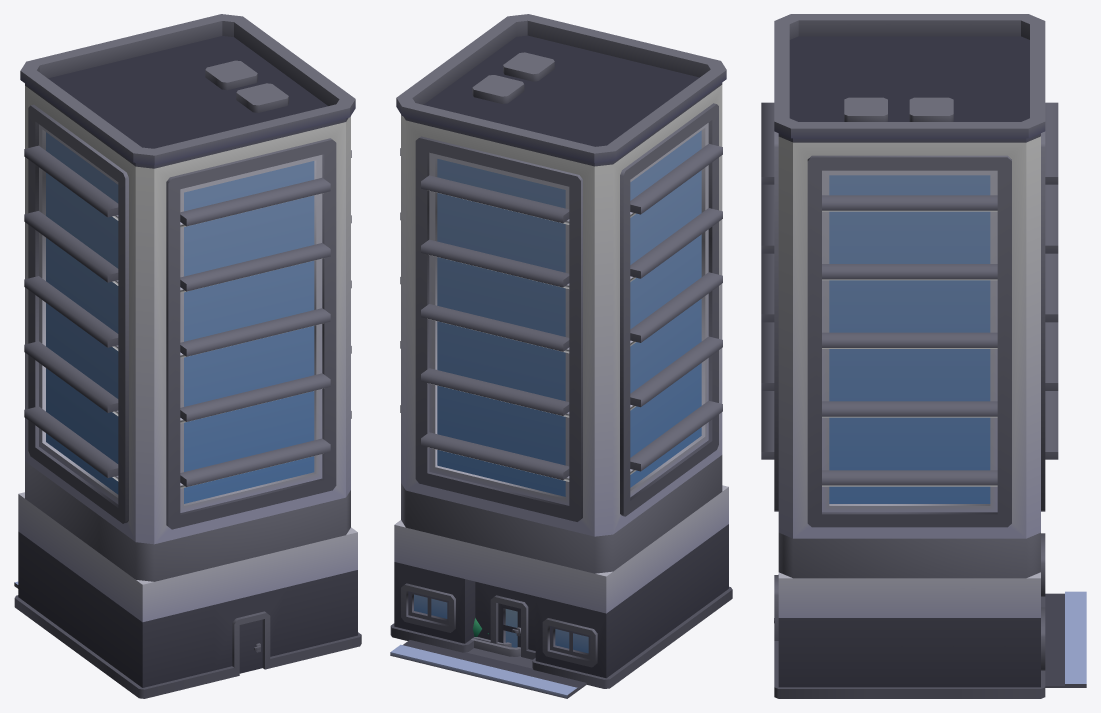
File: kit-city.glb
3 views of the same model, side by side, from view 1: azimuth 30°, elevation 25°; view 2: azimuth 150°, elevation 25°; view 3: azimuth 270°, elevation 25° (orthographic). The views are drawn at different scales.
Visible parts, largest first — view 1: building_skyscraper_a; view 2: building_skyscraper_a, road_side, building_c; view 3: building_skyscraper_a, road_side.
Boxes of the visible parts, left/top/right/bottom form: building_skyscraper_a: left=14, top=14, right=361, bottom=698; building_skyscraper_a: left=390, top=14, right=732, bottom=688; road_side: left=390, top=640, right=586, bottom=698; building_c: left=471, top=618, right=520, bottom=656; building_skyscraper_a: left=761, top=14, right=1058, bottom=698; road_side: left=1045, top=591, right=1086, bottom=687.
Bounding box in the file's own units: 12.24 × 26.21 × 13.41.
